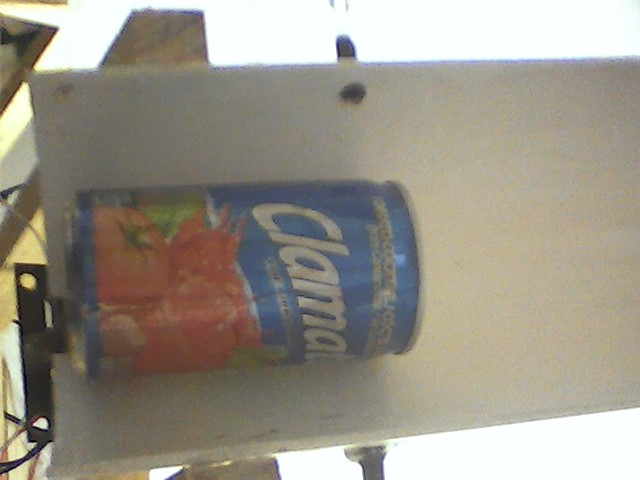lata: (51, 174, 434, 380)
